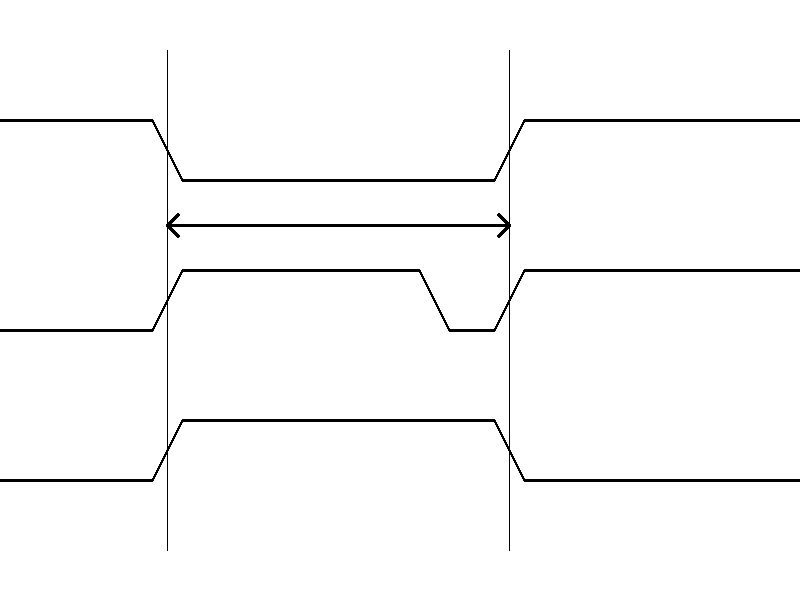double_arrow: (167, 210, 509, 240)
